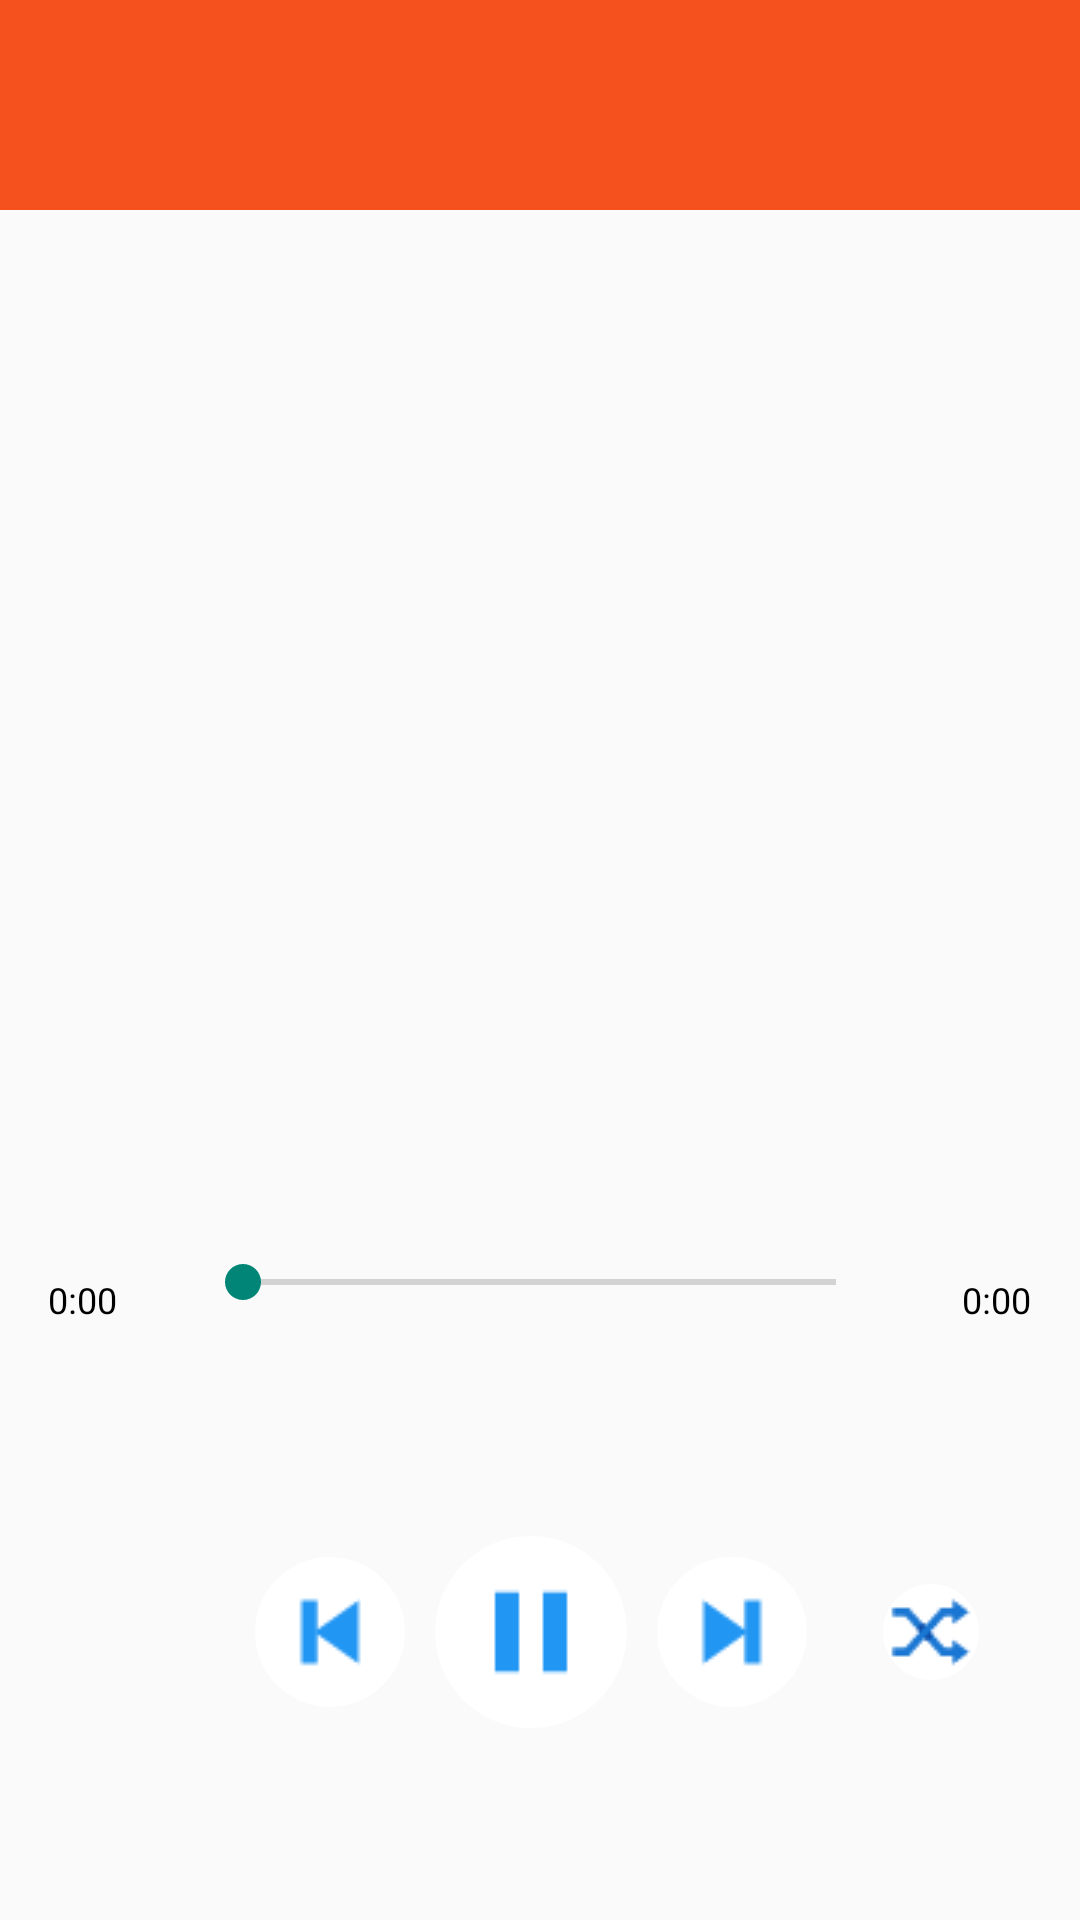

Where to tap for icons on this 1080px×1920px app screen, as point (x, y):
Next song button: point (732, 1632)
Play and pause button: point (531, 1632)
Previous song button: point (330, 1632)
Shuffle button: point (930, 1632)
